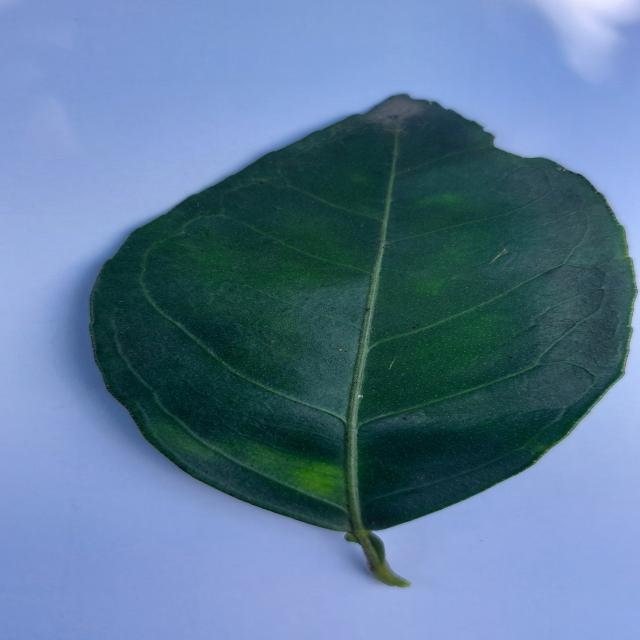greening: (91, 95, 635, 586)
